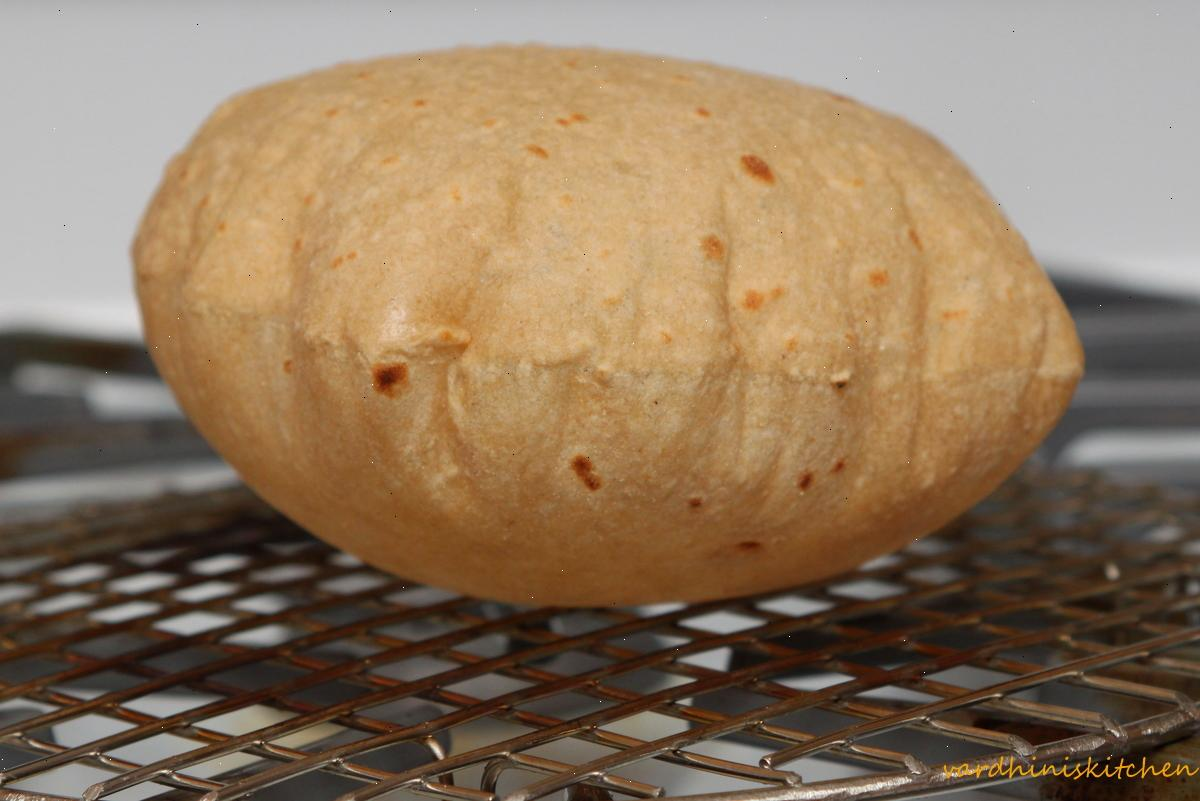roti phulka: (130, 33, 1094, 612)
